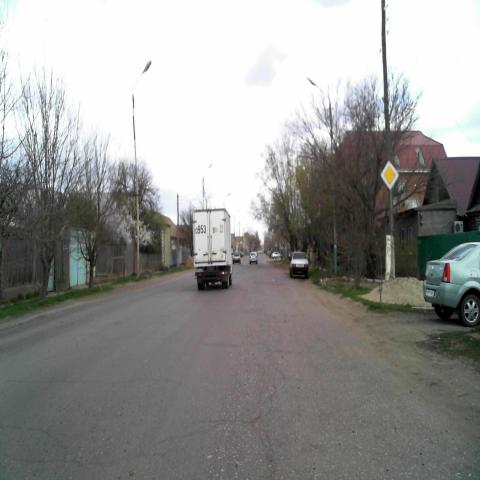2_1: (380, 159, 398, 190)
